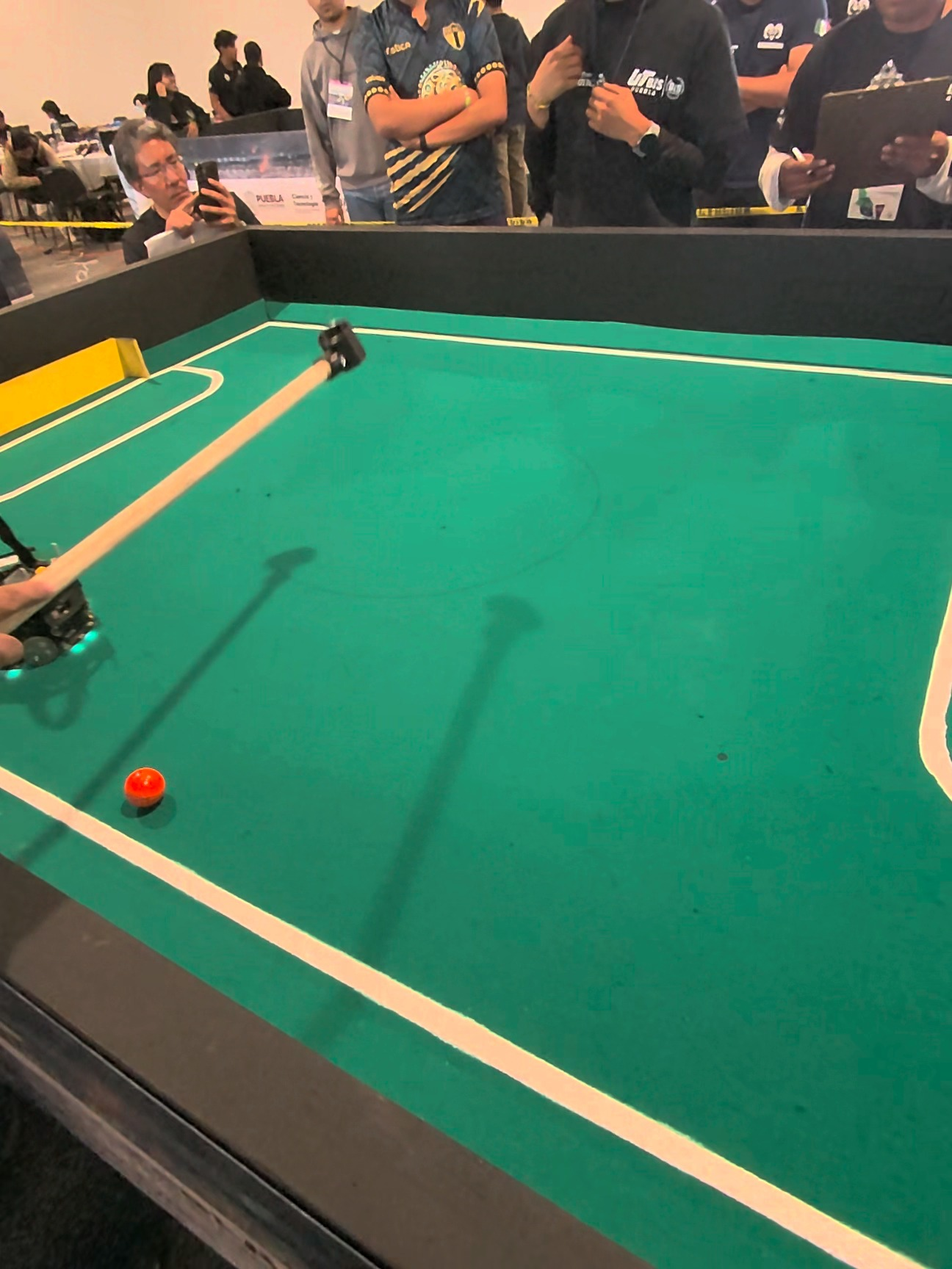Robot: (9, 521, 82, 703), (307, 319, 380, 393)
pelota: (125, 763, 168, 814)
